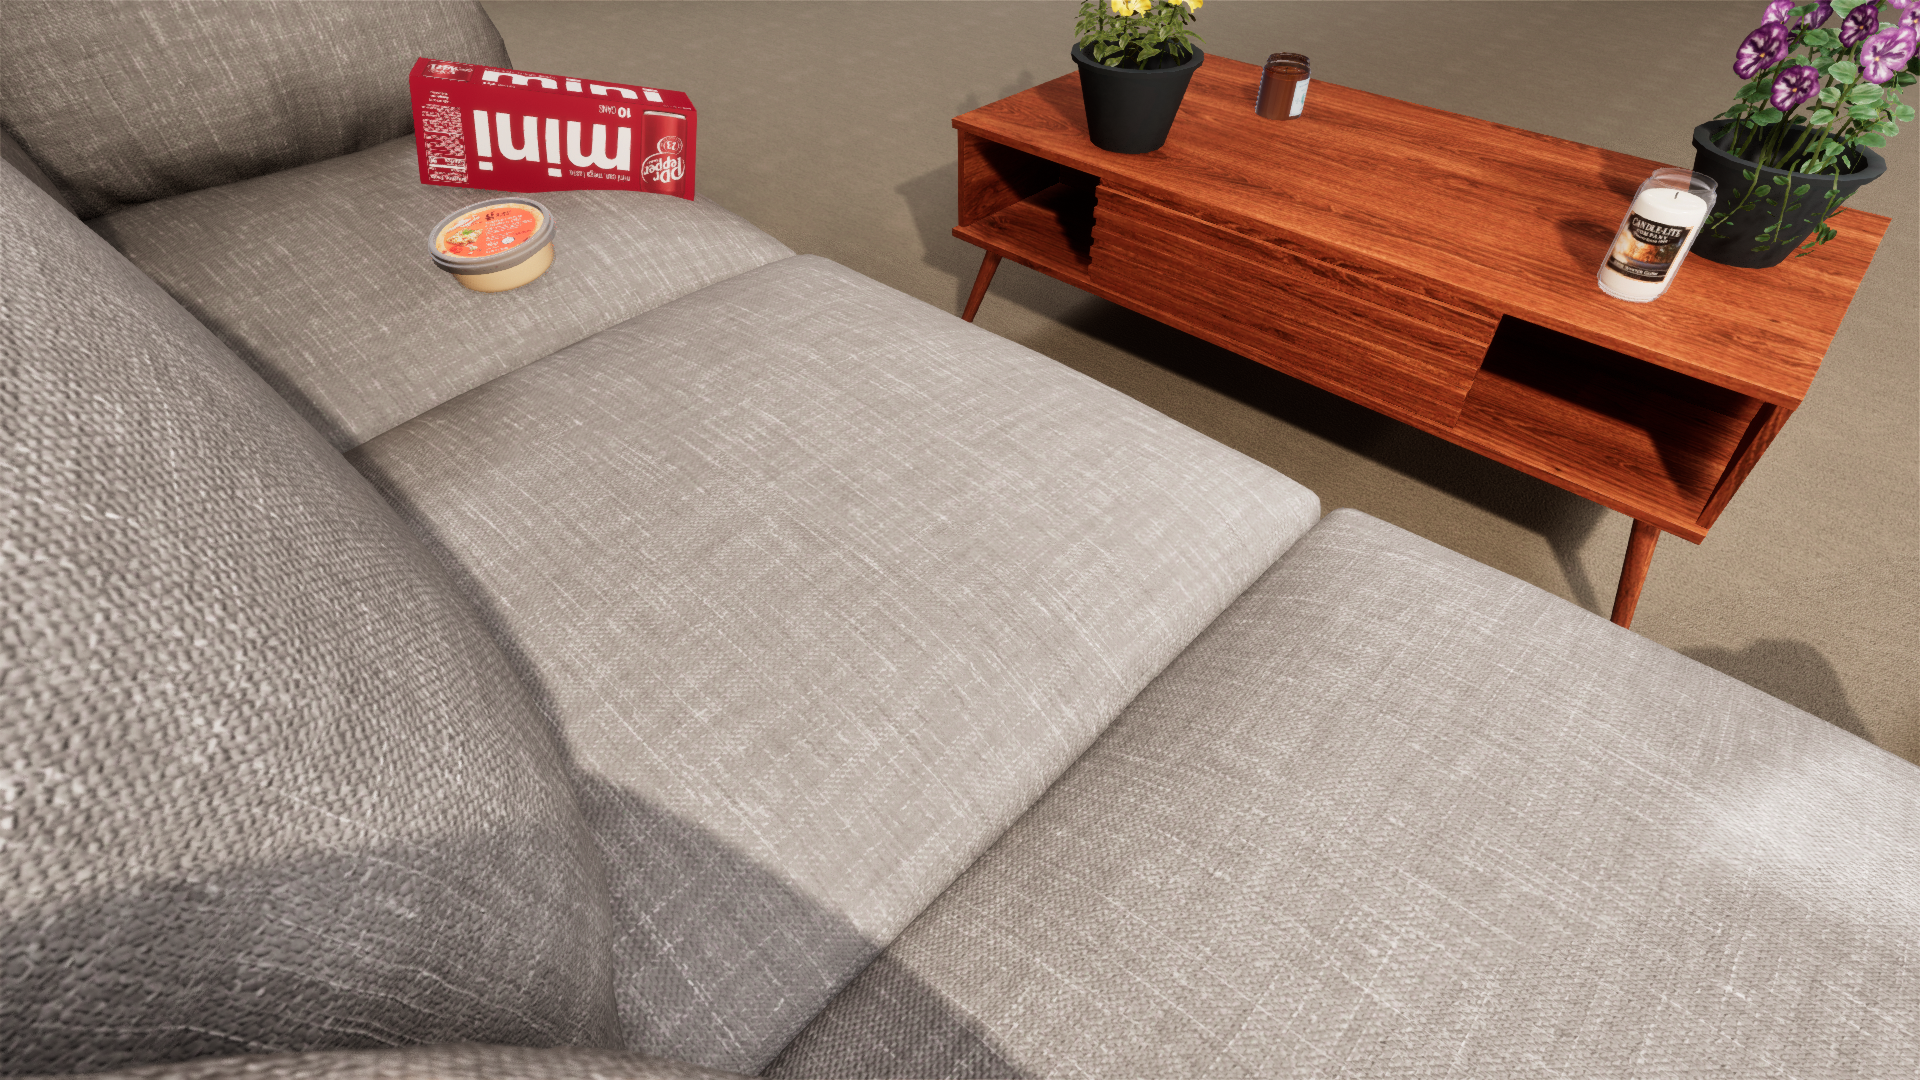cheerios: (1077, 688, 1553, 944)
soup: (906, 794, 1108, 948)
